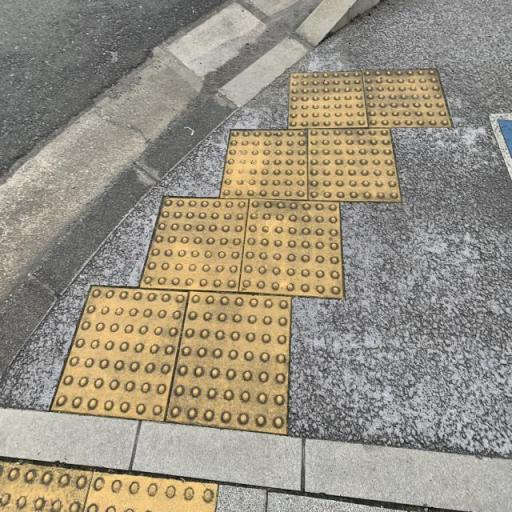dot: (51, 286, 188, 422), (165, 292, 292, 434), (141, 197, 251, 291), (239, 200, 342, 297), (308, 129, 402, 200), (220, 130, 307, 199), (363, 67, 453, 127), (288, 70, 368, 127)
